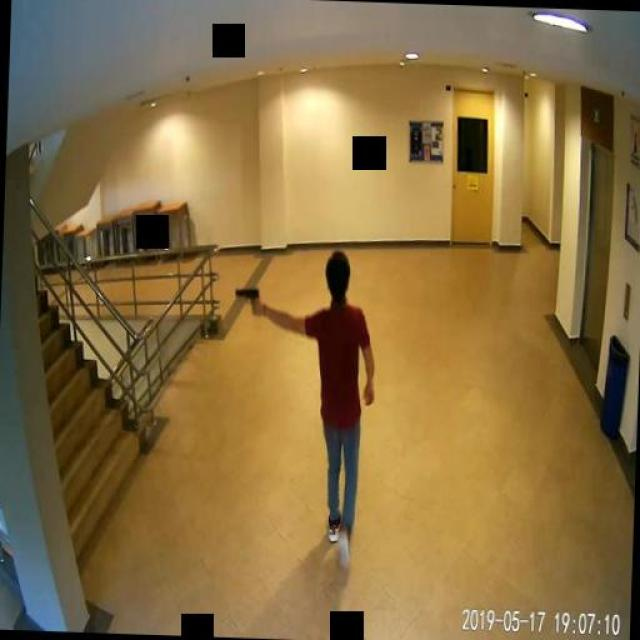gun: (232, 284, 258, 316)
